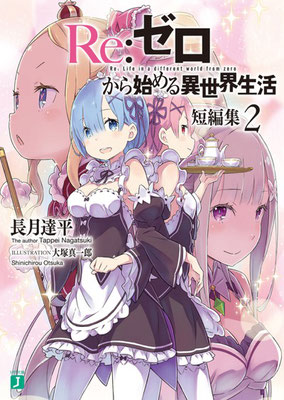rem: (42, 74, 162, 400)
